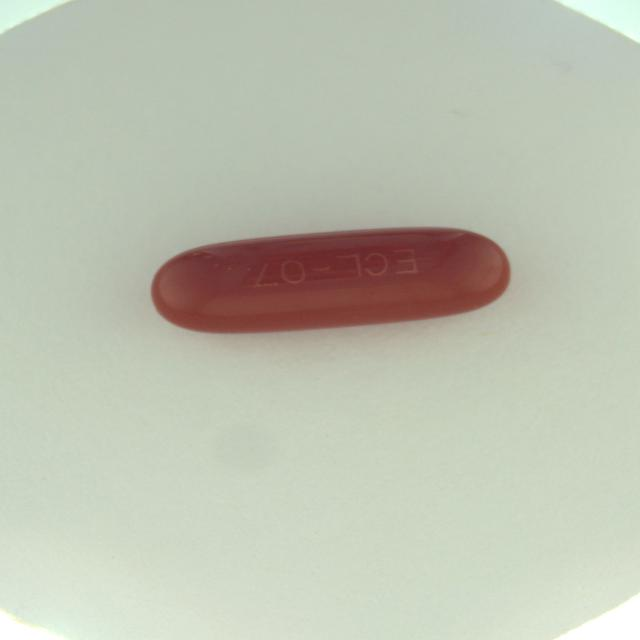Oval: (146, 225, 511, 335)
